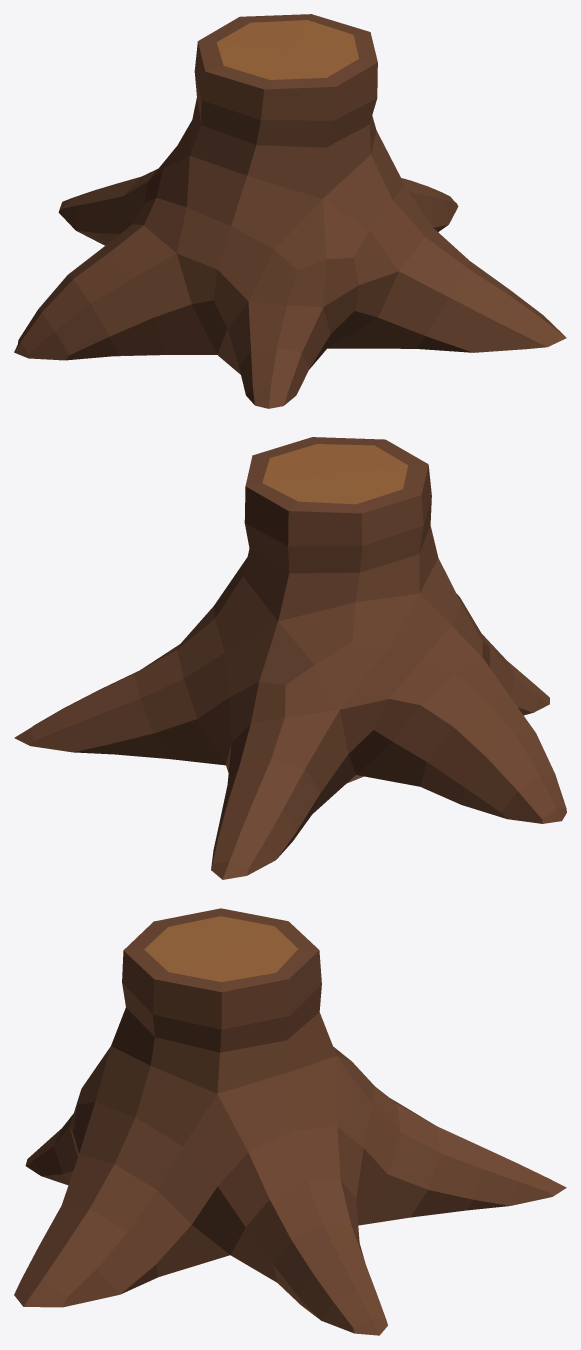
Rendered from Tree_Dead_Stump.fbx.
3 views of the same model, one above another, from view 1: azimuth 30°, elevation 25°; view 2: azimuth 150°, elevation 25°; view 3: azimuth 270°, elevation 25° (orthographic). The views are drawn at different scales.
Visible parts, largest first — view 1: Tree_Dead_Stump; view 2: Tree_Dead_Stump; view 3: Tree_Dead_Stump.
Boxes of the visible parts, <box> form: Tree_Dead_Stump: <box>14,14,566,408</box>; Tree_Dead_Stump: <box>14,437,566,879</box>; Tree_Dead_Stump: <box>14,908,566,1335</box>.
Size of the model in its own units: 0.3325 by 0.1724 by 0.3196.
